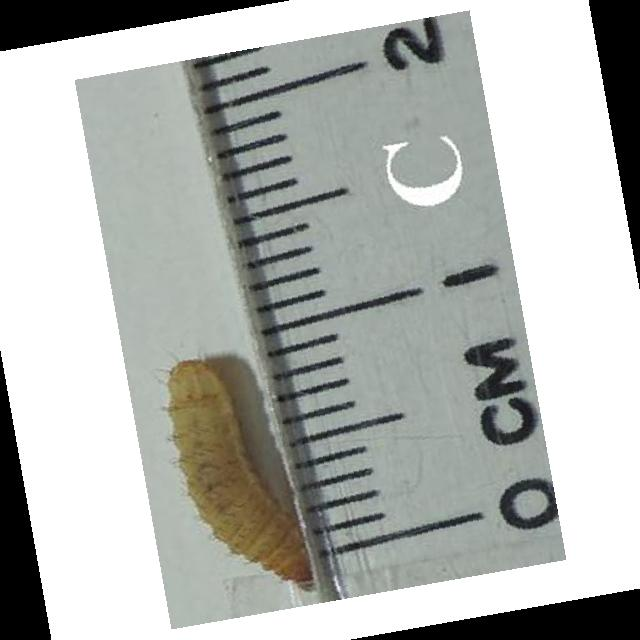Maggot: (161, 357, 320, 596)
